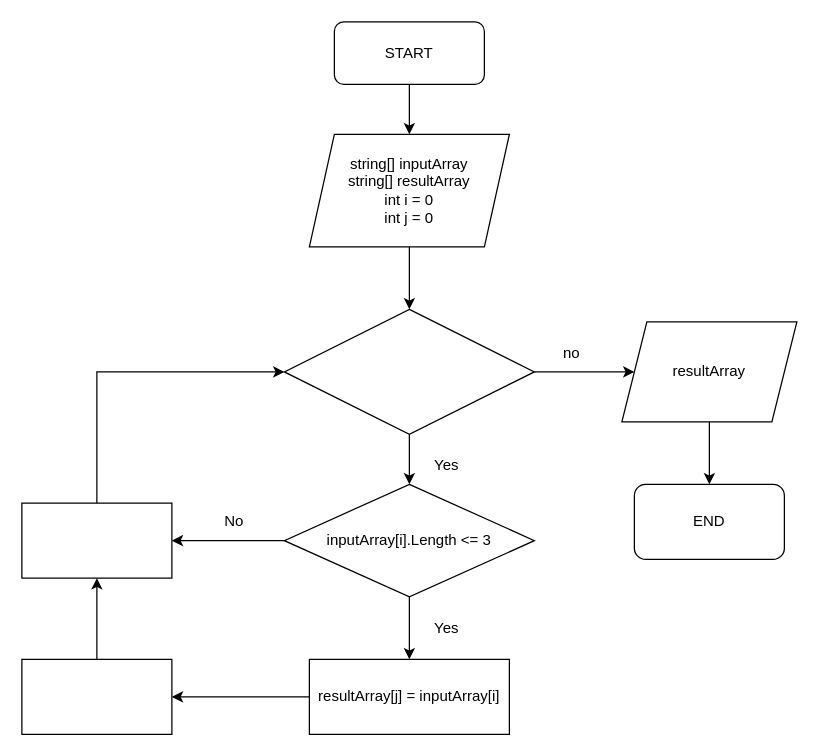
The diagram is 819 pixels wide and 756 high, and some of its shapes have lost their labels. The shapes that lost their labels are listed below. From the top down, each one's centre as x and y in pixels, then its label:
the point at 408,371: i < inputArray.Length
the point at 96,540: i++
the point at 96,696: j++
